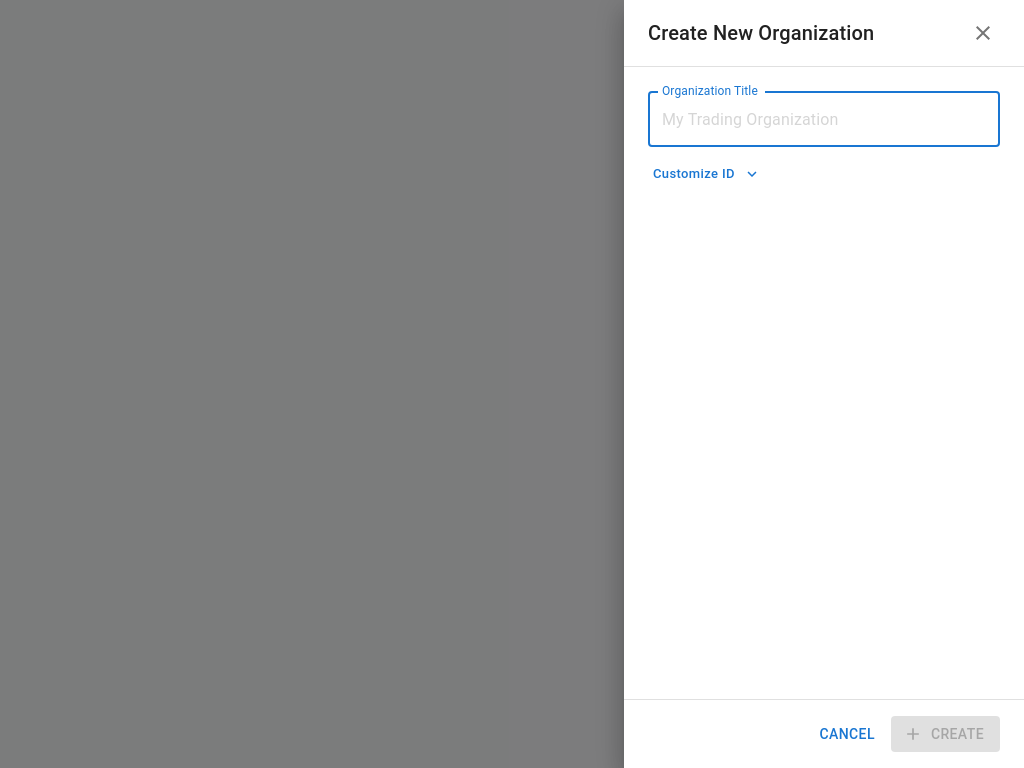
Scenario: CreateOrganizationDrawer › ID generation › removes diacritics from generated ID
The image size is (1024, 768).
Type "Café Résumé" into the field labelled "Organization Title". click: [824, 119]
box: [648,91,1000,147]
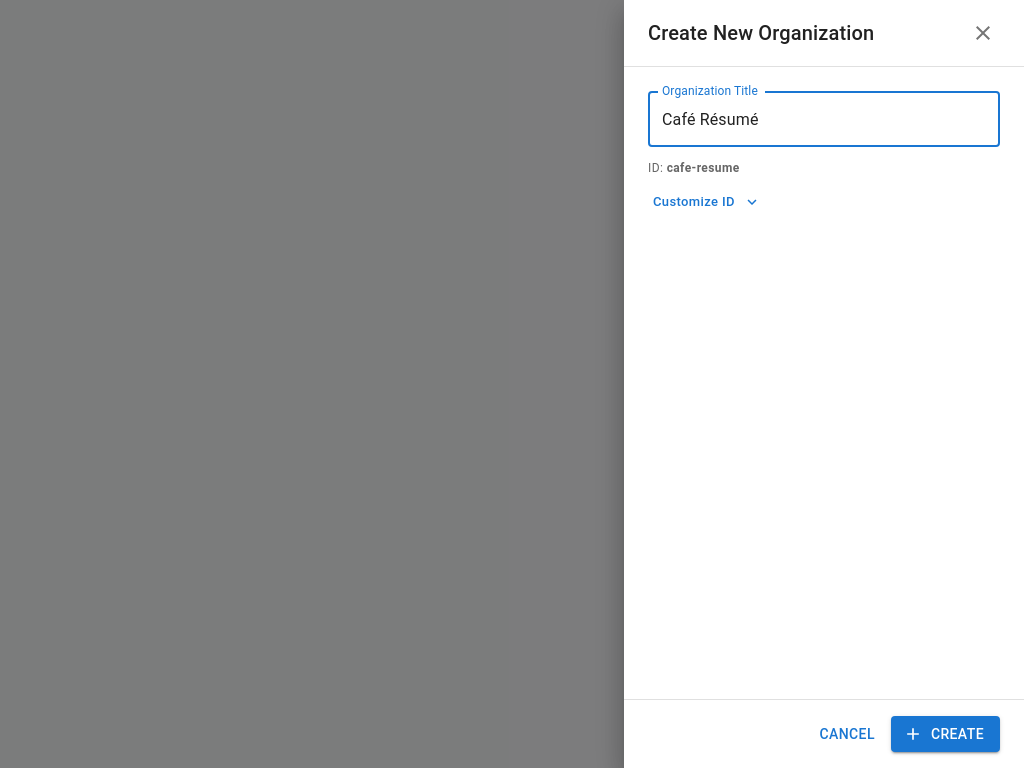
Expected: the text "cafe-resume" is shown, [667,161,740,175]
